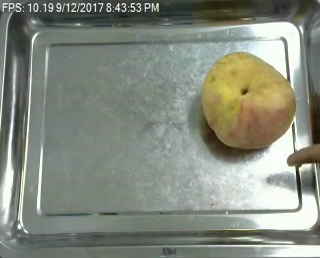Peach: (199, 50, 295, 149)
